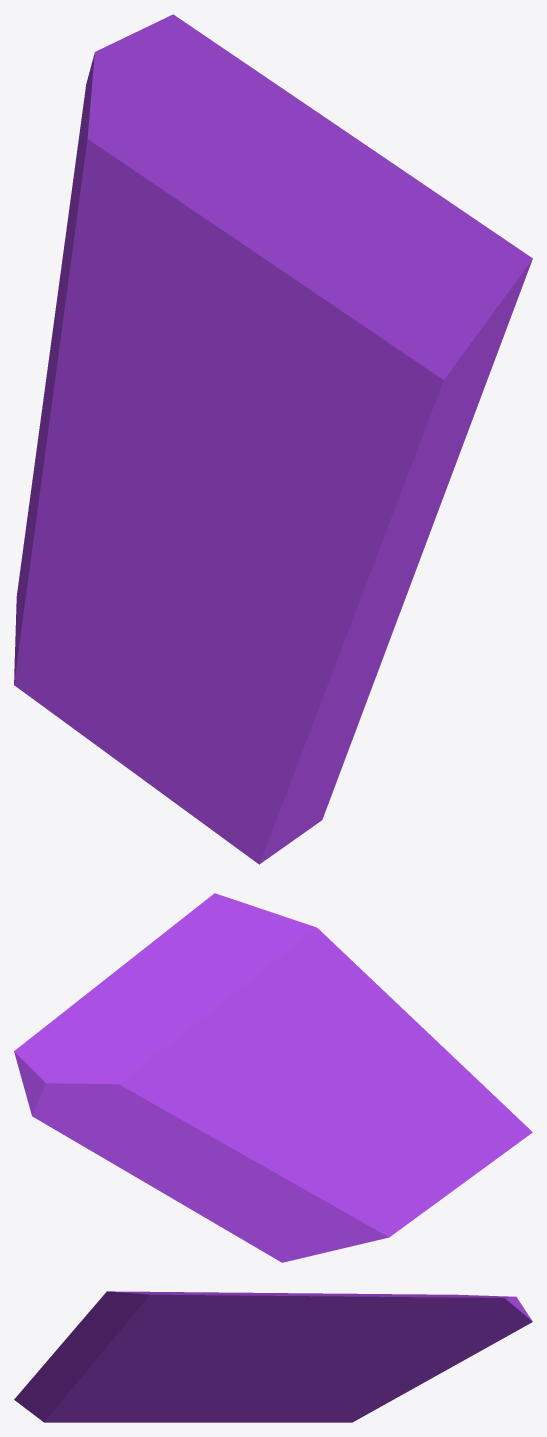
The model's file is Window_114_1_chunks.fbx.
3 renders of one model, top to bottom at view 1: azimuth 30°, elevation 25°; view 2: azimuth 150°, elevation 25°; view 3: azimuth 270°, elevation 25°, orthographic. The views are drawn at different scales.
Visible parts, largest first — view 1: Window_114_1_5, Window_114_1_2, Window_114_1_9, Window_114_1_4, Window_114_1_0, Window_114_1_8, Window_114_1_7, Window_114_1_3; view 2: Window_114_1_0, Window_114_1_5, Window_114_1_8, Window_114_1_2, Window_114_1_9, Window_114_1_4, Window_114_1_7; view 3: Window_114_1_0, Window_114_1_5, Window_114_1_9, Window_114_1_8, Window_114_1_3, Window_114_1_4, Window_114_1_1, Window_114_1_6, Window_114_1_2.
Boxes of the visible parts, x1,y1,x2,y2 form: Window_114_1_5: (169, 343, 470, 864); Window_114_1_2: (143, 248, 532, 489); Window_114_1_9: (166, 87, 517, 324); Window_114_1_4: (50, 439, 242, 798); Window_114_1_0: (14, 220, 169, 711); Window_114_1_8: (68, 14, 279, 245); Window_114_1_7: (72, 190, 238, 363); Window_114_1_3: (440, 267, 529, 504); Window_114_1_0: (98, 1082, 409, 1262); Window_114_1_5: (286, 917, 532, 1170); Window_114_1_8: (14, 1004, 166, 1154); Window_114_1_2: (206, 893, 333, 1112); Window_114_1_9: (74, 900, 246, 1049); Window_114_1_4: (287, 1066, 479, 1221); Window_114_1_7: (161, 1034, 252, 1118); Window_114_1_0: (229, 1348, 484, 1422); Window_114_1_5: (14, 1291, 158, 1422); Window_114_1_9: (165, 1292, 398, 1336); Window_114_1_8: (375, 1294, 532, 1353); Window_114_1_3: (103, 1292, 212, 1382); Window_114_1_4: (104, 1368, 237, 1422); Window_114_1_1: (238, 1334, 317, 1412); Window_114_1_6: (248, 1326, 404, 1359); Window_114_1_2: (127, 1291, 237, 1368).
Bounding box in the file's own units: 445 × 424 × 970.
